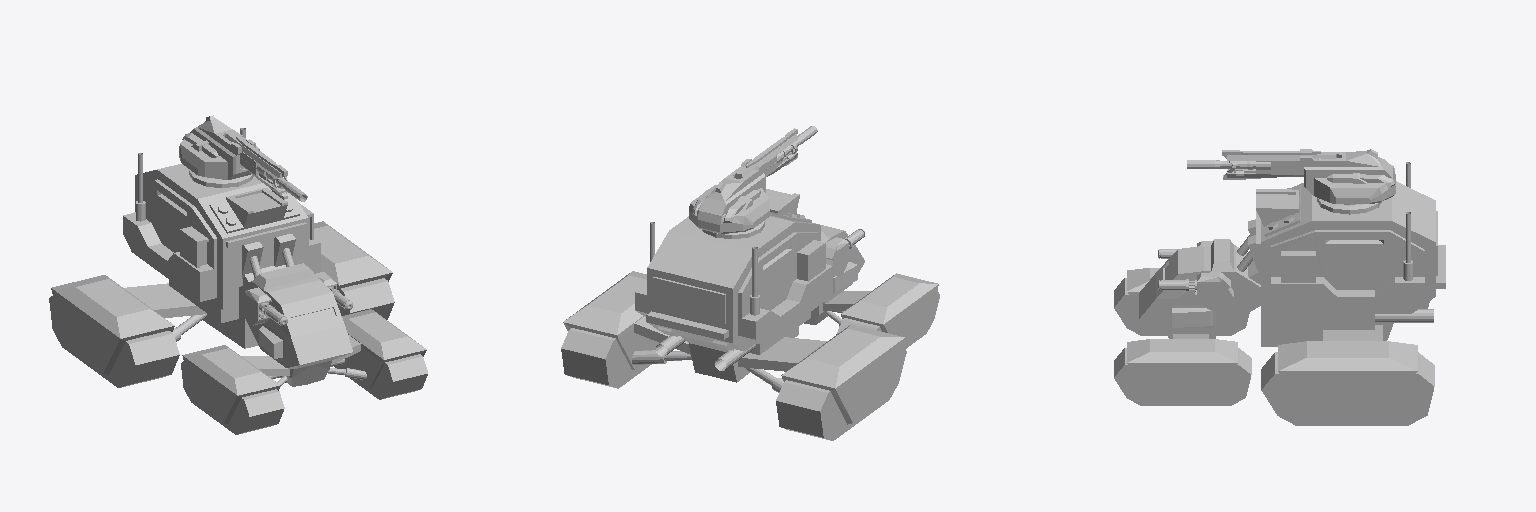
Rendered from Futuristic_light_tank.obj.
The picture shows the model from 3 angles: view 1: azimuth 30°, elevation 25°; view 2: azimuth 150°, elevation 25°; view 3: azimuth 270°, elevation 25°; orthographic projection.
Parts seen in each view (by area): view 1: Mesh.001_Mesh1_Componente_.003, hardpoint.dev.cruise_Cube.660, Cube.002_Cube.667; view 2: Mesh.001_Mesh1_Componente_.003, hardpoint.dev.cruise_Cube.660, Cube.002_Cube.667; view 3: Mesh.001_Mesh1_Componente_.003, hardpoint.dev.cruise_Cube.660, Cube.002_Cube.667.
Part boxes in pixels (left/top/right/bottom): Mesh.001_Mesh1_Componente_.003: left=49, top=128, right=427, bottom=434; hardpoint.dev.cruise_Cube.660: left=179, top=115, right=259, bottom=187; Cube.002_Cube.667: left=225, top=132, right=307, bottom=201; Mesh.001_Mesh1_Componente_.003: left=561, top=189, right=939, bottom=440; hardpoint.dev.cruise_Cube.660: left=689, top=159, right=769, bottom=238; Cube.002_Cube.667: left=734, top=126, right=817, bottom=178; Mesh.001_Mesh1_Componente_.003: left=1114, top=162, right=1445, bottom=425; hardpoint.dev.cruise_Cube.660: left=1300, top=149, right=1395, bottom=214; Cube.002_Cube.667: left=1187, top=150, right=1335, bottom=179.
Size of the model in its own units: 16.38 by 12.25 by 17.29.